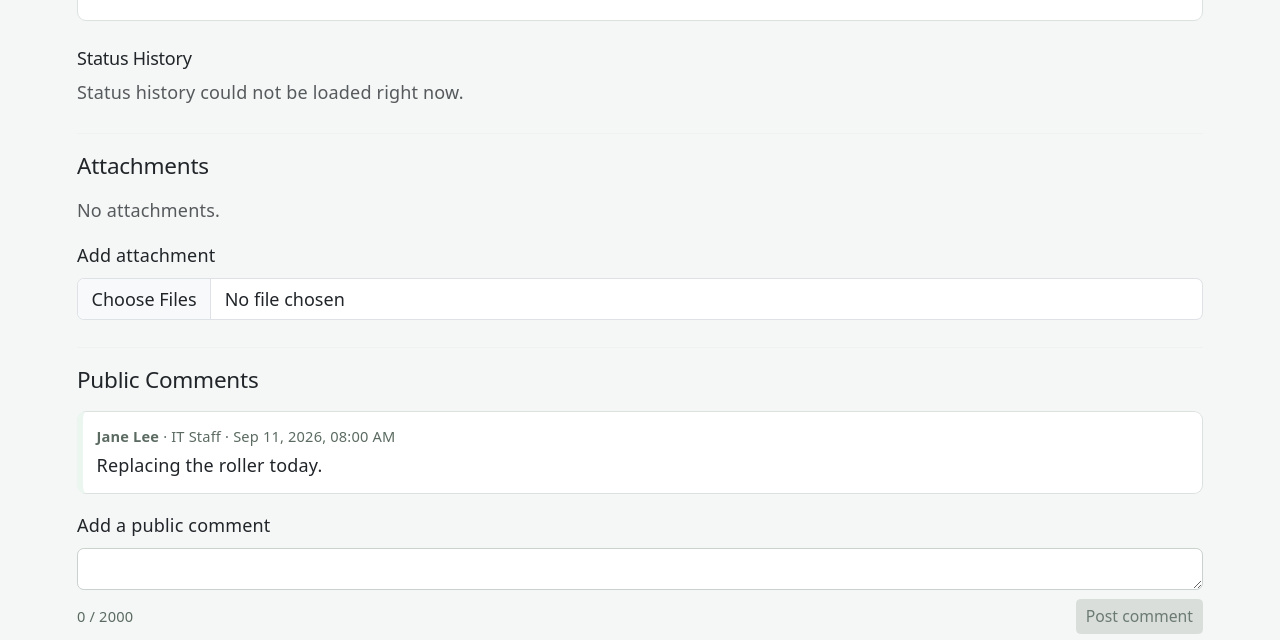
it: RequesterTicketDetail - Lab 3 additions › Public Comments panel (ui-spec.md 5) › lists the Ticket’s comments, posts a new one, and never requests Internal Notes
The image size is (1280, 640).
(page scrolled)
Expected: the list item "Replacing the roller today." is shown, [96,453,322,477]
Type "Thanks, it works now." into the text box labelled "Add a public comment" at (640, 569), box [77,548,1203,590]
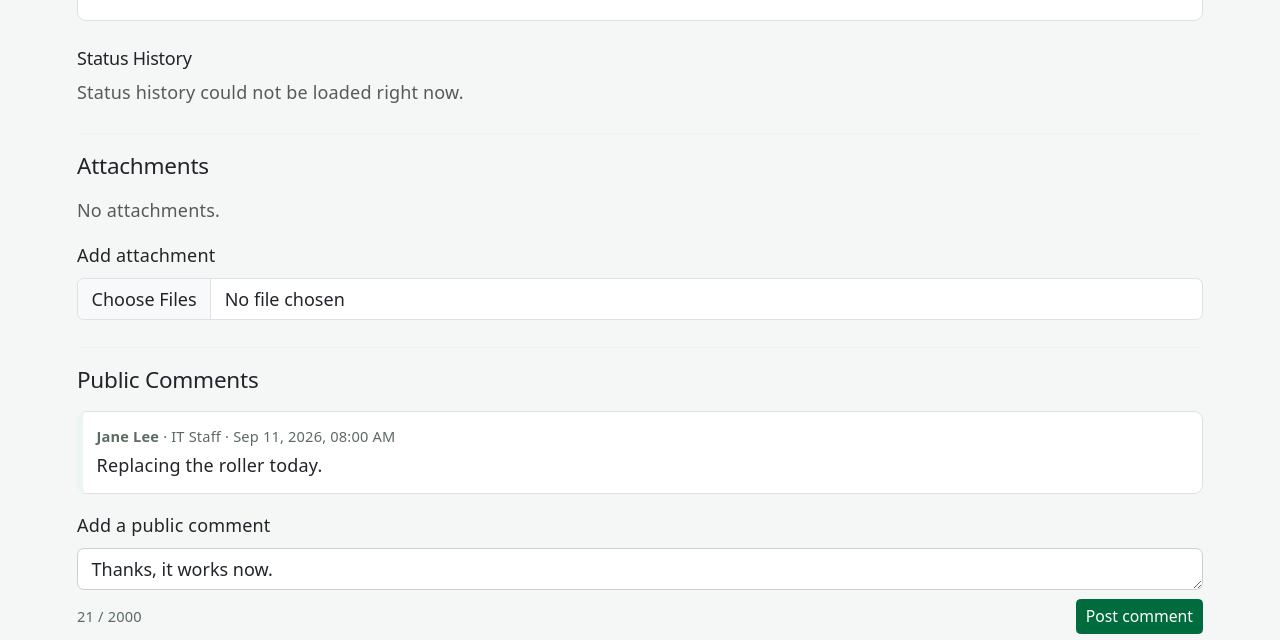
Click the button "Post comment" at (1139, 617), box [1076,599,1203,634]
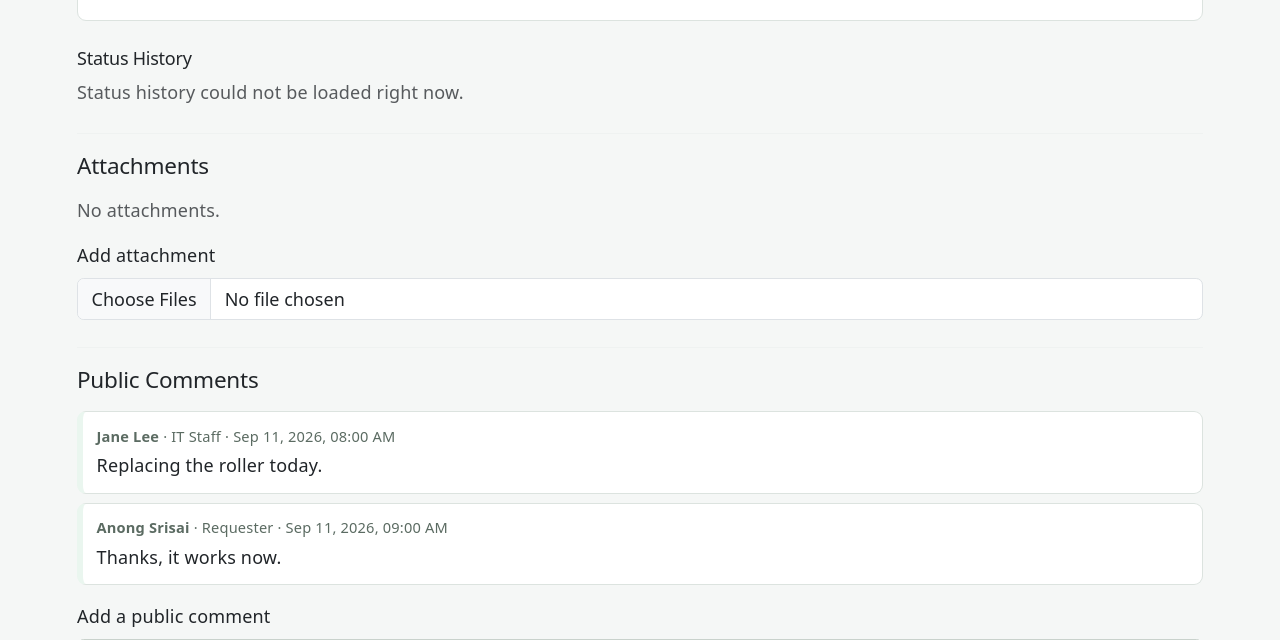
Expected: the text "Thanks, it works now." is shown, [96,545,282,569]
